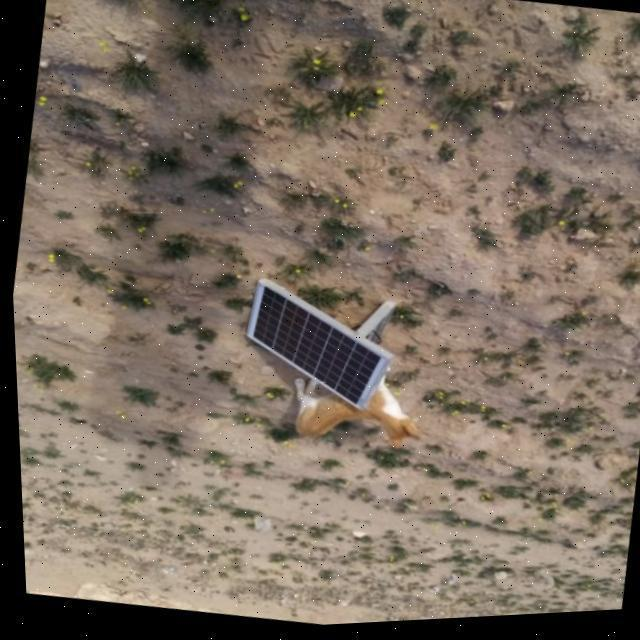Normal Solar Panel: (231, 278, 394, 422)
